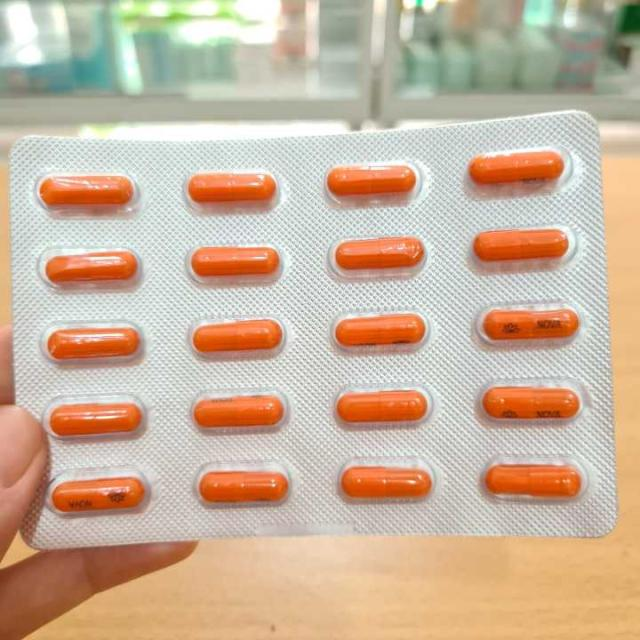b3: (23, 137, 600, 503)
